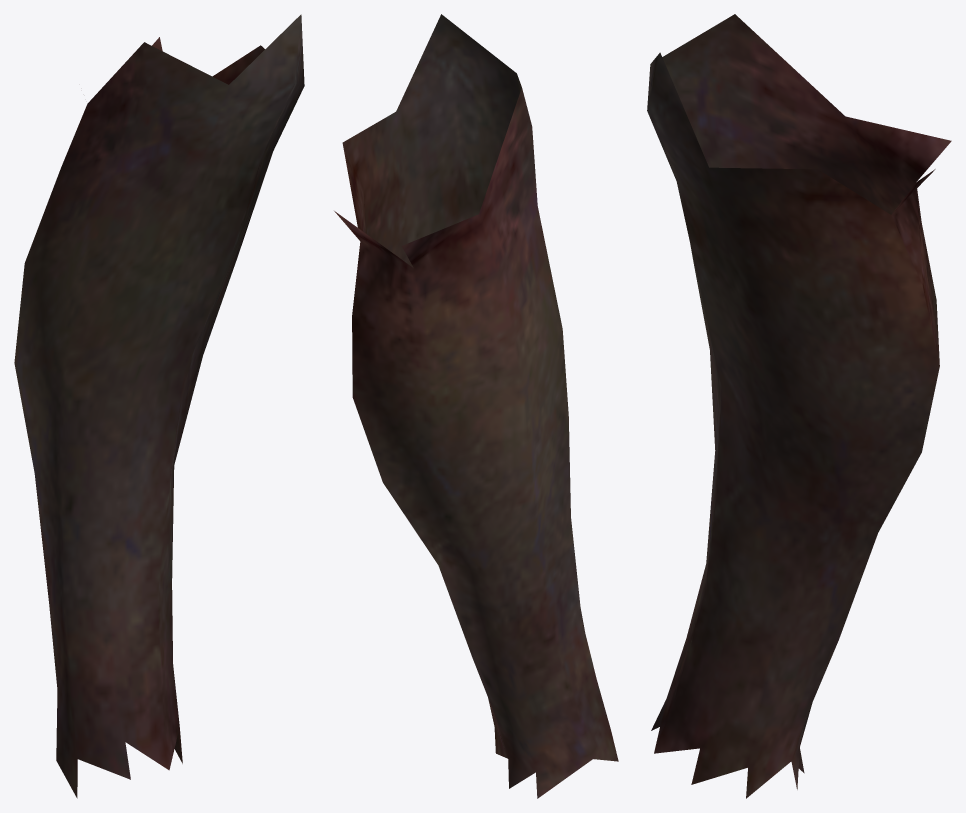
Rendered from tillagemon_pierna_der.obj.
The picture shows the model from 3 angles, left to right: view 1: azimuth 30°, elevation 25°; view 2: azimuth 150°, elevation 25°; view 3: azimuth 270°, elevation 25°; orthographic projection. The views are drawn at different scales.
Parts seen in each view (by area): view 1: pierna_der; view 2: pierna_der; view 3: pierna_der.
Boxes of the visible parts, x1,y1,x2,y2 form: pierna_der: (14, 14, 304, 798); pierna_der: (334, 14, 618, 798); pierna_der: (647, 14, 951, 798).
Bounding box in the file's own units: 0.7246 × 2.18 × 0.7416.
1 material, 1 textured.
